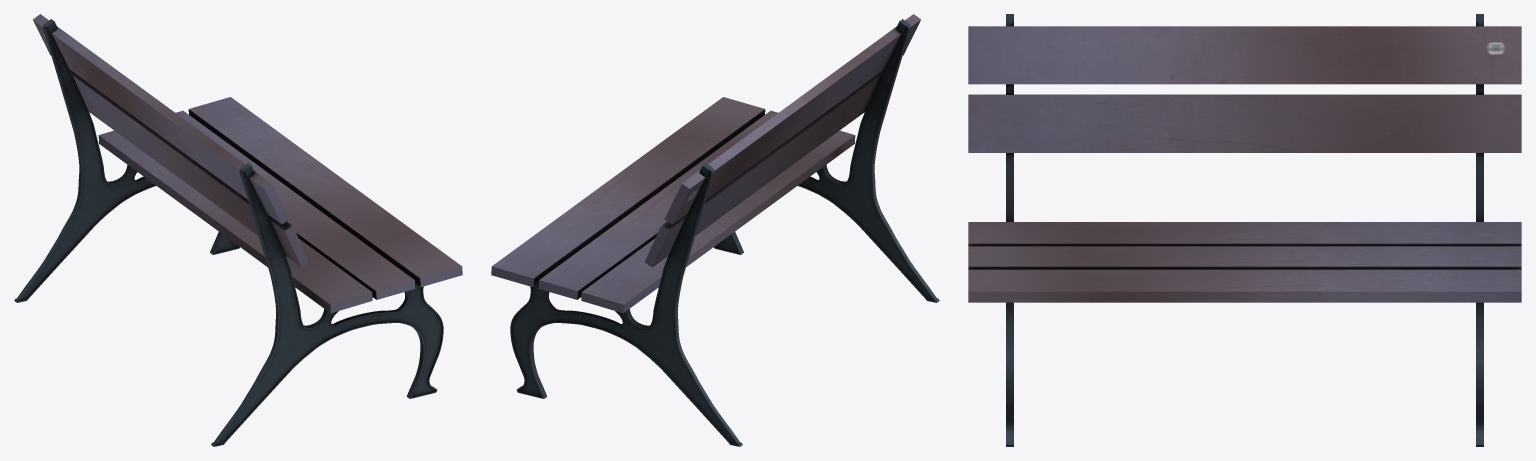
3 renders of one model, left to right at view 1: azimuth 30°, elevation 25°; view 2: azimuth 150°, elevation 25°; view 3: azimuth 270°, elevation 25°, orthographic. The views are drawn at different scales.
Visible parts, largest first — view 1: banca_01; view 2: banca_01; view 3: banca_01.
Boxes of the visible parts, x1=… form: banca_01: x1=14, y1=14, x2=462, y2=446; banca_01: x1=491, y1=14, x2=939, y2=446; banca_01: x1=968, y1=14, x2=1521, y2=446.
Bounding box in the file's own units: 1.38 × 1.55 × 2.38.
1 material, 1 textured.
